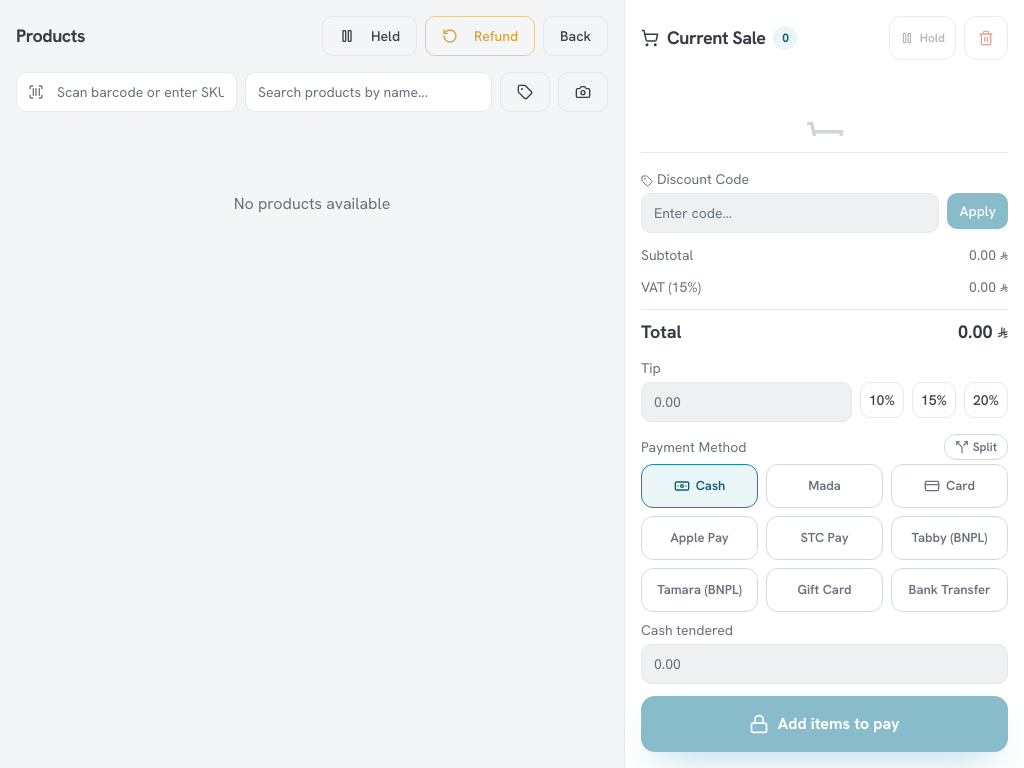
Test: POSTerminal refund-line steppers a11y (#226) › names the decrease-quantity button after the line item
The width and height of the screenshot is (1024, 768).
Step 1. Click the button "Refund" → coordinates (480, 36), box [425,16,535,56]
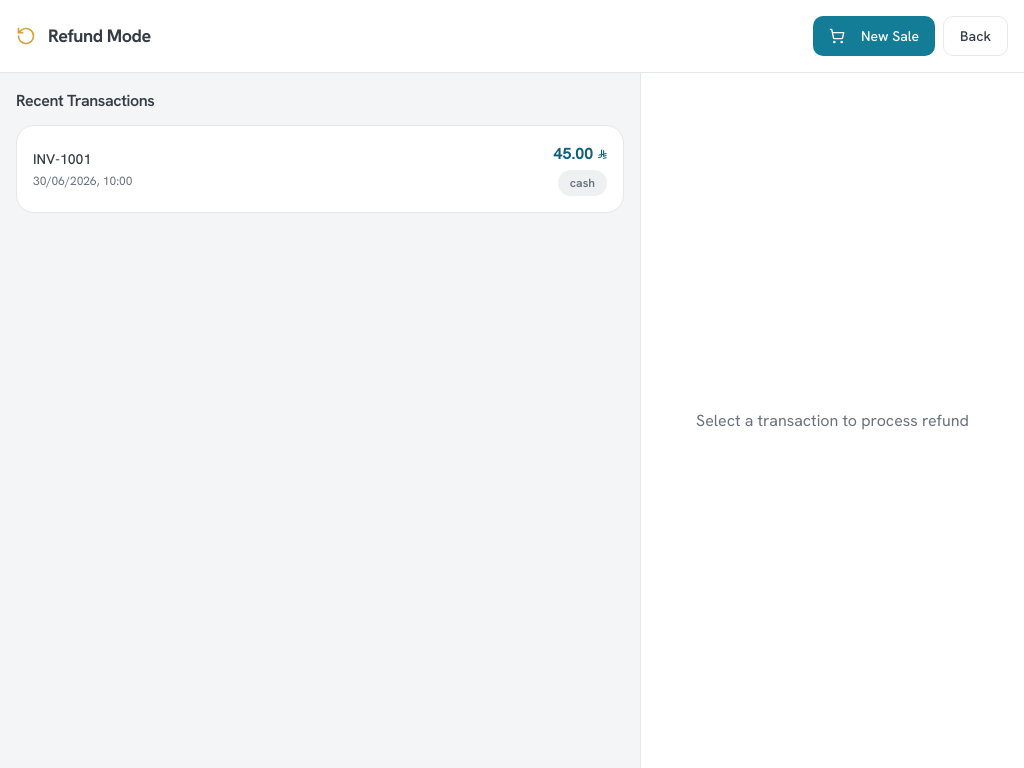
Step 2. Click the button "INV-1001 30/06/2026, 10:00 45.00 ⃁ cash" → coordinates (62, 159), box [16,125,624,213]
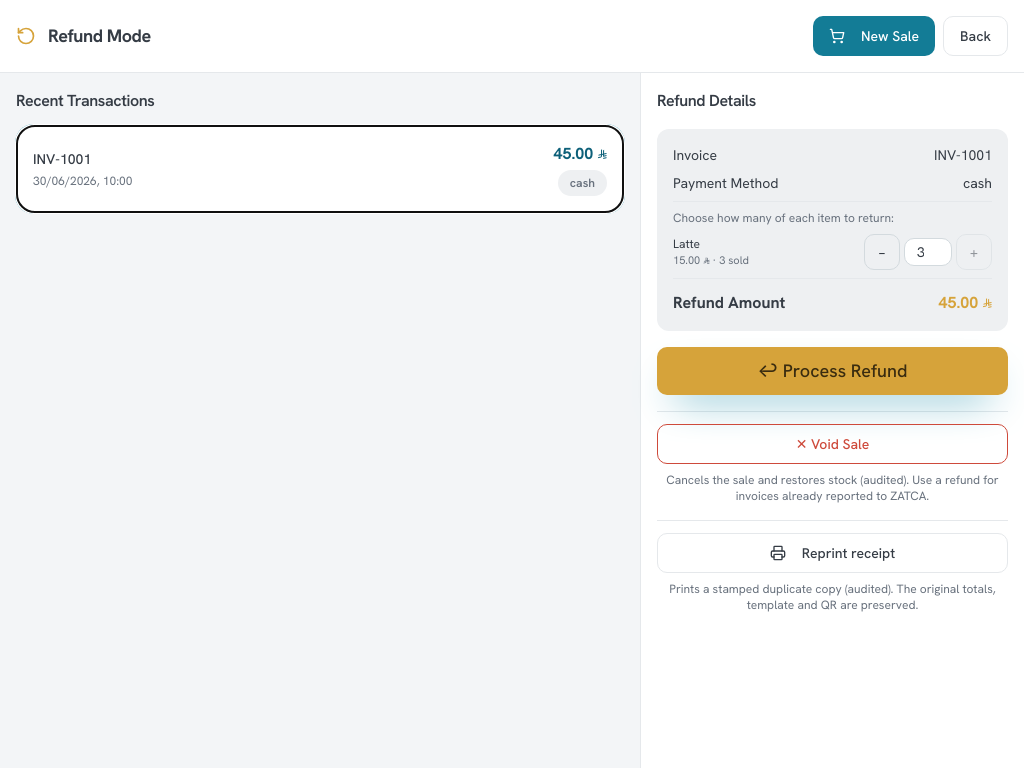
Result: the button "−" is shown at [864,234,900,270]
